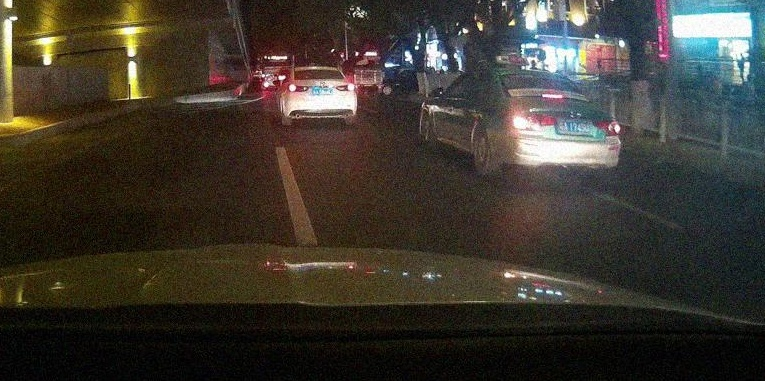L_light: (512, 112, 556, 130), (288, 84, 309, 92)
R_light: (596, 120, 621, 136), (335, 84, 355, 92)
T_light: (542, 93, 562, 98), (312, 69, 323, 71)
night-brake: (494, 69, 621, 179)
night-no: (286, 66, 357, 126)
